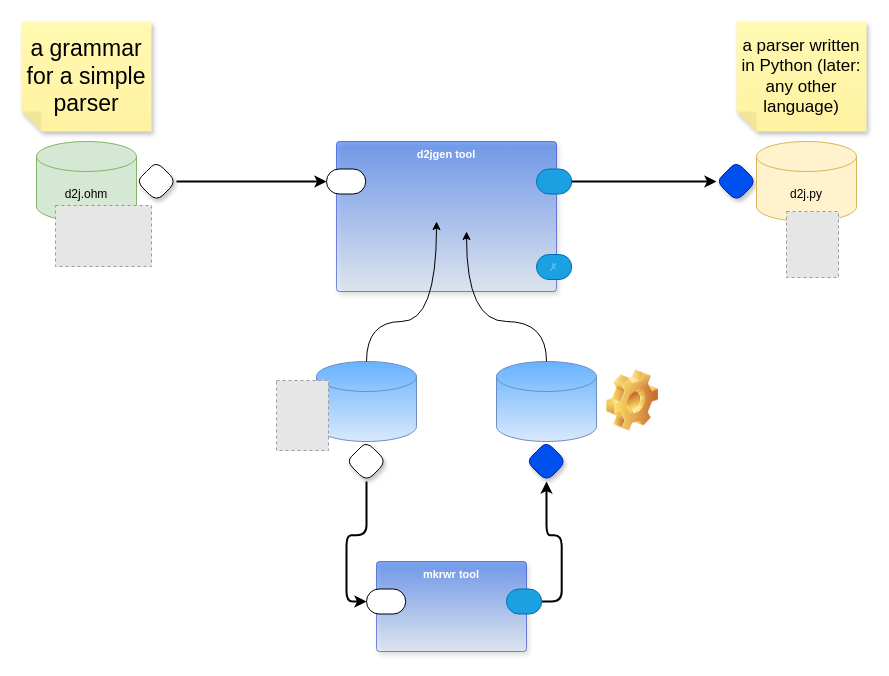
Some shapes in this 889 by 676 pixel diagram are drawn without their labels. Grey dashed boxes stand in for pictures. The centre of each missing label's shape, as x and y in pixels:
"ohmjsmin.ohm" belongs at [366,401].
"ohmjsmin.rwr" belongs at [546,401].
